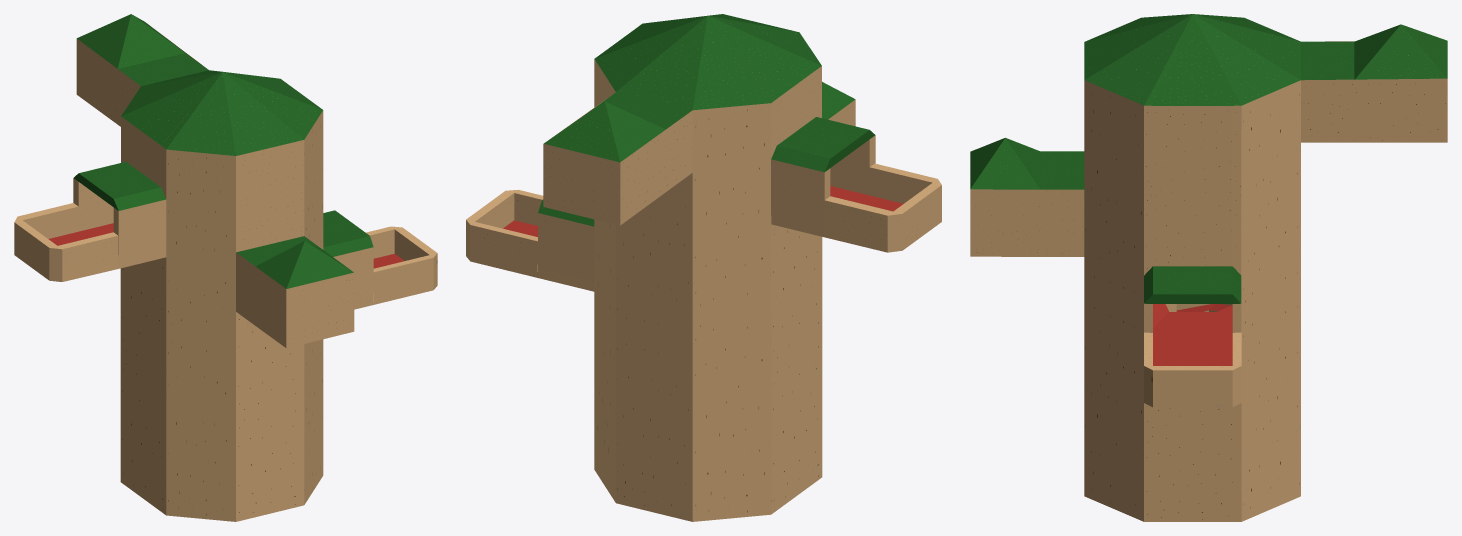
The model's file is map1.fbx.
3 renders of one model, left to right at view 1: azimuth 30°, elevation 25°; view 2: azimuth 150°, elevation 25°; view 3: azimuth 270°, elevation 25°, orthographic. The views are drawn at different scales.
Visible parts, largest first — view 1: Cylinder.085, Cylinder.086, Cylinder.084, Cylinder.087, Cylinder.089, Cylinder.076, Cylinder.047, Cylinder.095, Cylinder.066, Cylinder.104, Cylinder.103, Cylinder.064 (+23 smaller); view 2: Cylinder.083, Cylinder.092, Cylinder.084, Cylinder.091, Cylinder.096, Cylinder.095, Cylinder.051, Cylinder.052, Cylinder.065, Cylinder.103, Cylinder.064, Cylinder.055 (+18 smaller); view 3: Cylinder.089, Cylinder.091, Cylinder.090, Cylinder.105, Cylinder.094, Cylinder.075, Cylinder.049, Cylinder.053, Cylinder.048, Cylinder.050, Cylinder.058, Cylinder.074 (+14 smaller).
Part boxes in pixels (x1=…): Cylinder.085: x1=166, y1=149, x2=235, y2=521; Cylinder.086: x1=236, y1=312, x2=304, y2=521; Cylinder.084: x1=120, y1=257, x2=166, y2=514; Cylinder.087: x1=236, y1=140, x2=304, y2=252; Cylinder.089: x1=304, y1=110, x2=323, y2=504; Cylinder.076: x1=286, y1=272, x2=354, y2=348; Cylinder.047: x1=223, y1=72, x2=303, y2=155; Cylinder.095: x1=76, y1=39, x2=140, y2=126; Cylinder.066: x1=113, y1=199, x2=166, y2=268; Cylinder.104: x1=166, y1=72, x2=235, y2=155; Cylinder.103: x1=121, y1=72, x2=222, y2=149; Cylinder.064: x1=74, y1=161, x2=165, y2=210; Cylinder.083: x1=692, y1=103, x2=771, y2=521; Cylinder.092: x1=616, y1=173, x2=692, y2=521; Cylinder.084: x1=771, y1=224, x2=822, y2=514; Cylinder.091: x1=594, y1=59, x2=615, y2=502; Cylinder.096: x1=543, y1=144, x2=620, y2=225; Cylinder.095: x1=620, y1=110, x2=692, y2=225; Cylinder.051: x1=616, y1=16, x2=707, y2=110; Cylinder.052: x1=692, y1=16, x2=770, y2=110; Cylinder.065: x1=771, y1=159, x2=830, y2=237; Cylinder.103: x1=708, y1=16, x2=821, y2=102; Cylinder.064: x1=771, y1=117, x2=874, y2=172; Cylinder.055: x1=538, y1=213, x2=594, y2=282; Cylinder.089: x1=1084, y1=80, x2=1143, y2=521; Cylinder.091: x1=1241, y1=80, x2=1300, y2=521; Cylinder.090: x1=1144, y1=105, x2=1241, y2=275; Cylinder.105: x1=1144, y1=403, x2=1241, y2=521; Cylinder.094: x1=1301, y1=78, x2=1447, y2=142; Cylinder.075: x1=970, y1=189, x2=1040, y2=256; Cylinder.049: x1=1144, y1=14, x2=1241, y2=105; Cylinder.053: x1=1144, y1=266, x2=1241, y2=303; Cylinder.048: x1=1085, y1=14, x2=1192, y2=105; Cylinder.050: x1=1193, y1=14, x2=1300, y2=105; Cylinder.058: x1=1153, y1=366, x2=1232, y2=407; Cylinder.074: x1=1040, y1=189, x2=1084, y2=256.
Size of the model in its own units: 490 by 492 by 458.
